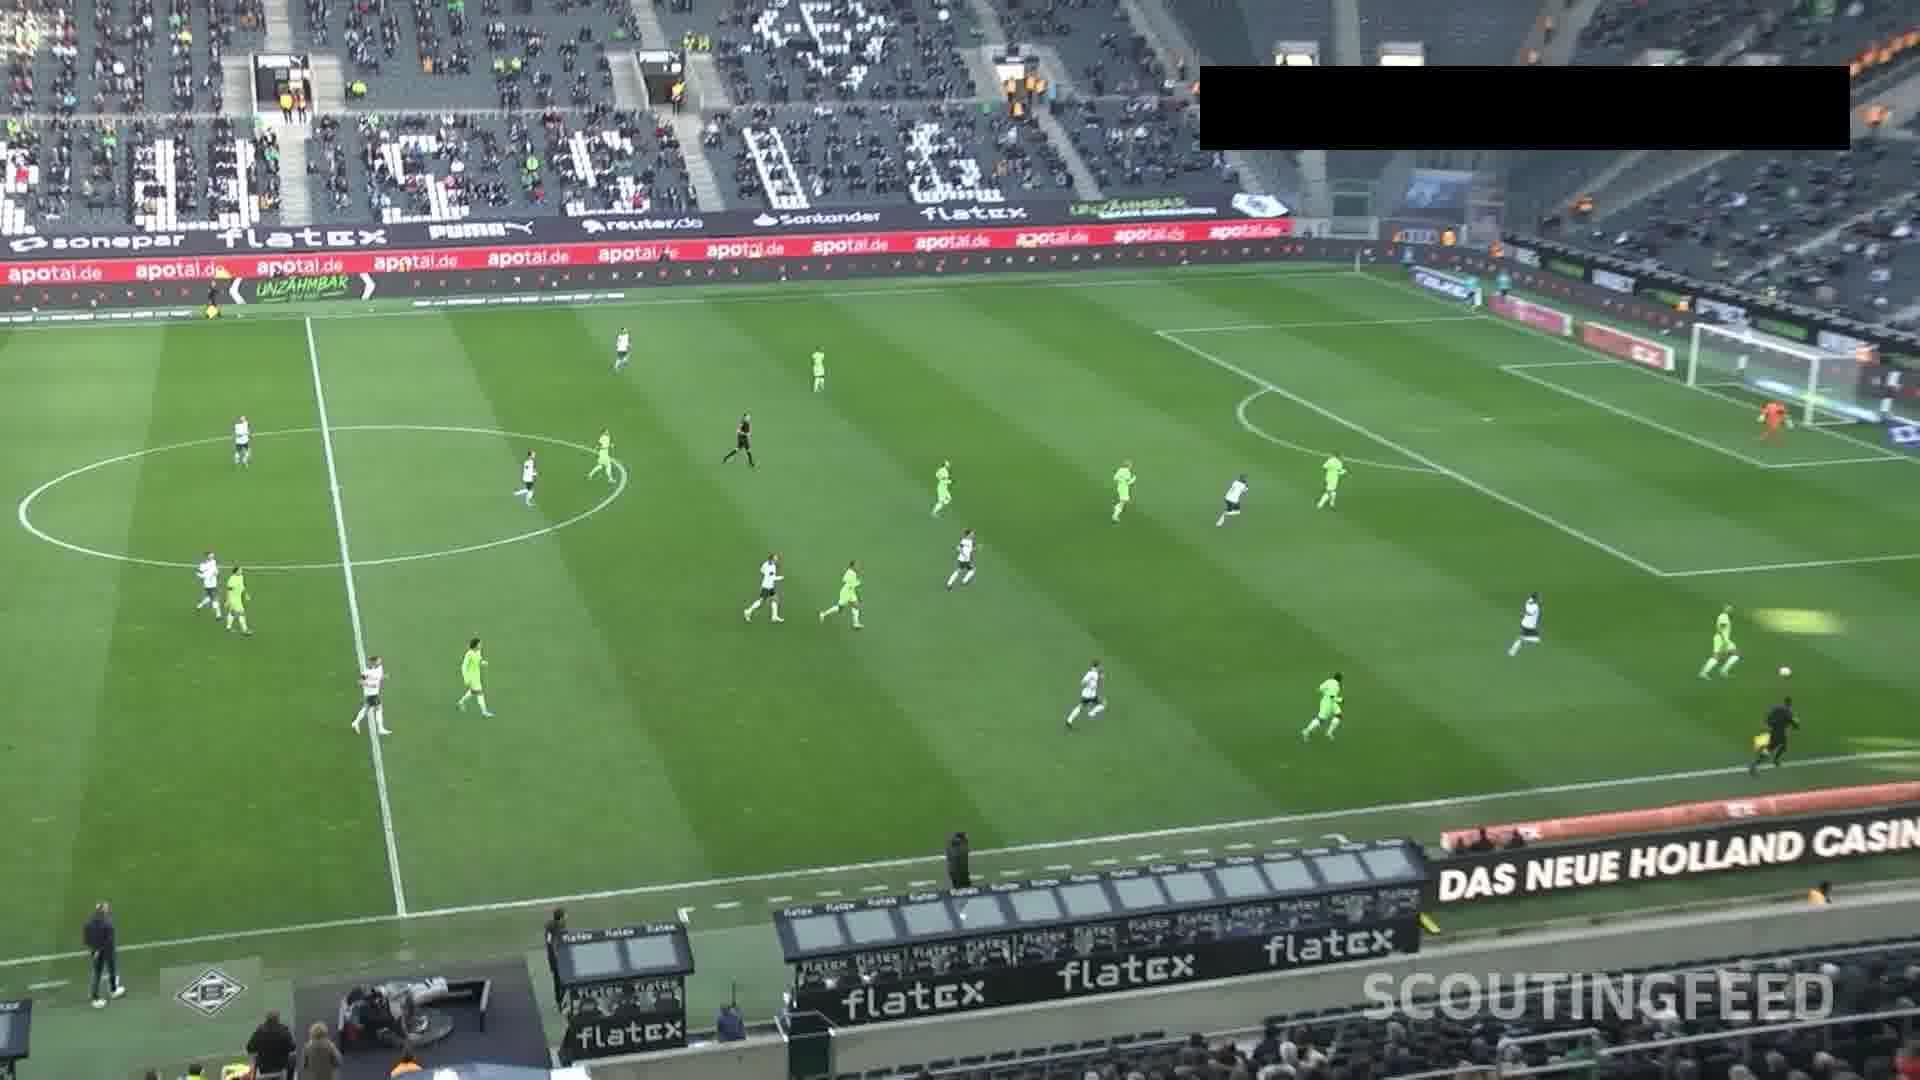football: (1776, 665, 1792, 679)
